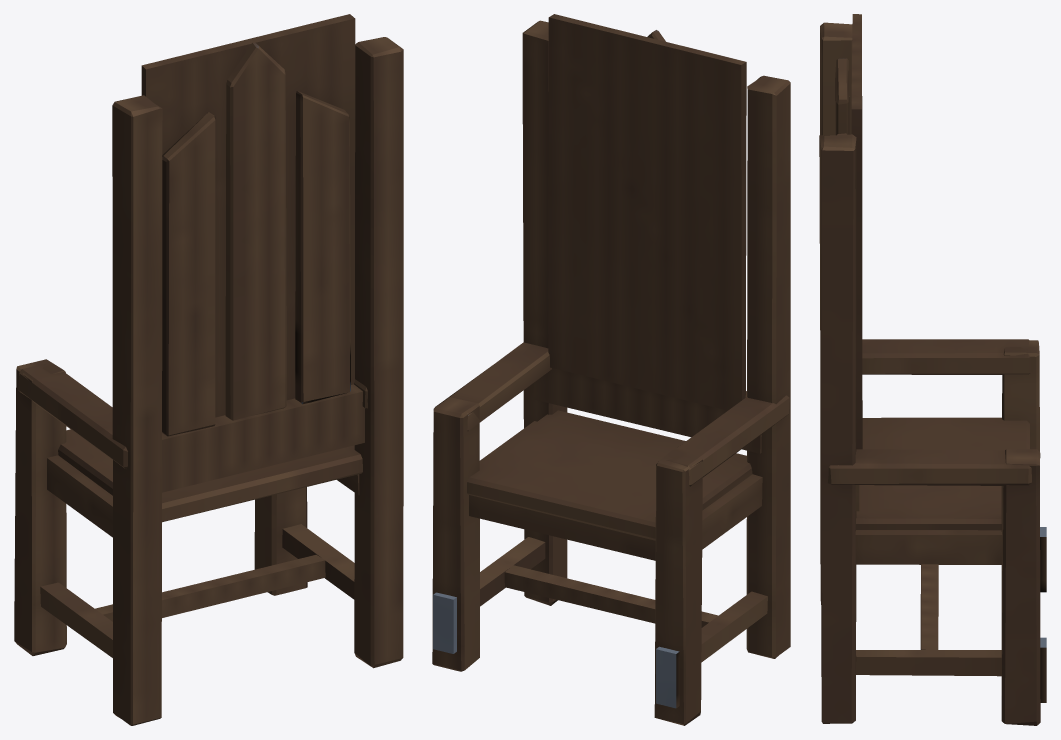
The model's file is chair_01.glb.
The picture shows the model from 3 angles, left to right: view 1: azimuth 30°, elevation 25°; view 2: azimuth 150°, elevation 25°; view 3: azimuth 270°, elevation 25°; orthographic projection. The views are drawn at different scales.
Visible parts, largest first — view 1: chair_01; view 2: chair_01; view 3: chair_01.
Boxes of the visible parts, x1,y1,x2,y2 form: chair_01: [14, 14, 403, 725]; chair_01: [432, 14, 790, 725]; chair_01: [819, 14, 1046, 725].
Bounding box in the file's own units: 0.6936 × 1.53 × 0.5209.
4 materials, 4 textured.
